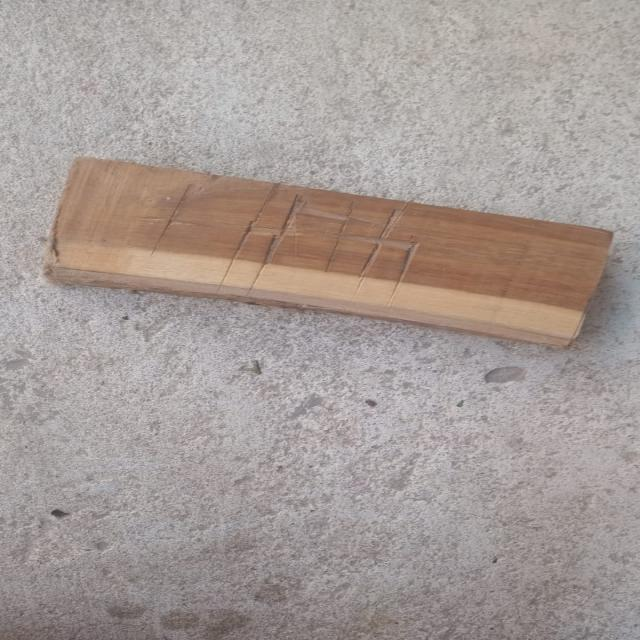wood: (37, 138, 640, 356)
